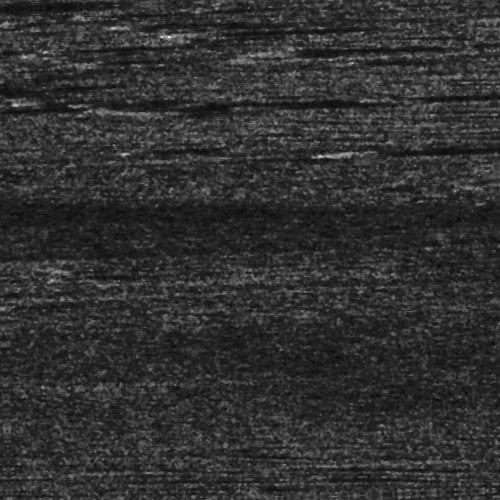object: (74, 96, 157, 109), (10, 36, 103, 47), (145, 24, 228, 35), (242, 47, 315, 56), (313, 152, 396, 159), (398, 97, 429, 110), (74, 53, 115, 58), (0, 93, 11, 106), (257, 103, 288, 106)
shadow: (0, 93, 308, 106), (115, 96, 339, 109), (187, 24, 333, 35), (57, 36, 194, 47), (278, 47, 428, 56), (414, 97, 500, 110), (355, 152, 500, 159), (95, 53, 187, 58), (272, 103, 368, 106), (0, 77, 54, 82), (0, 0, 109, 2)
